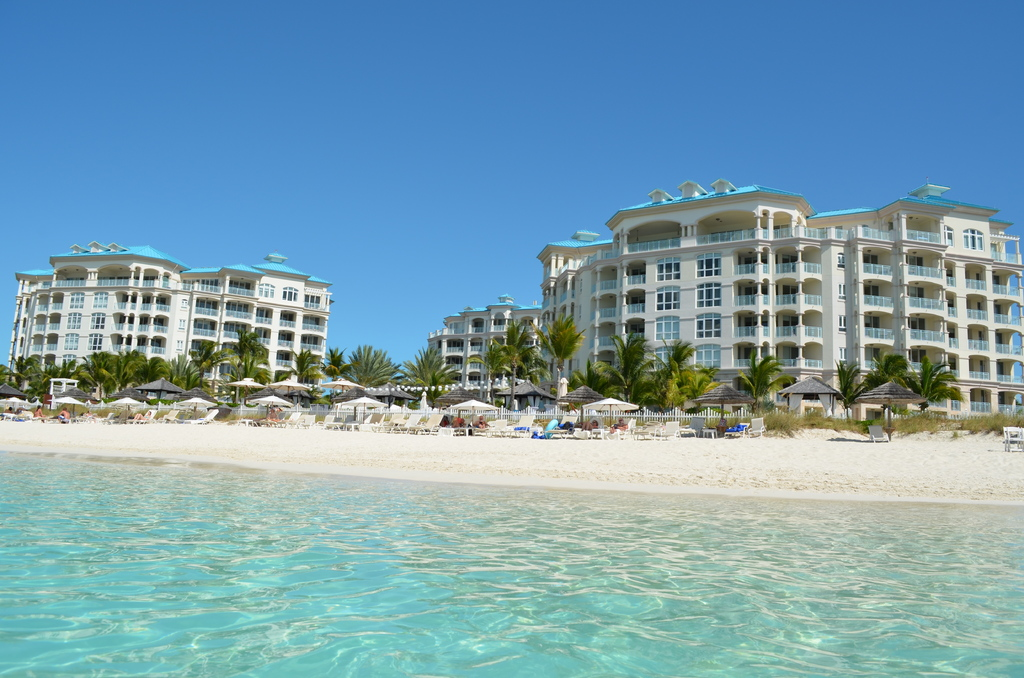Tree: (228, 328, 459, 408), (0, 342, 224, 398), (571, 331, 723, 412), (469, 315, 548, 409), (531, 309, 583, 390), (890, 358, 968, 405), (736, 349, 794, 410), (822, 358, 886, 411), (869, 356, 914, 382)
